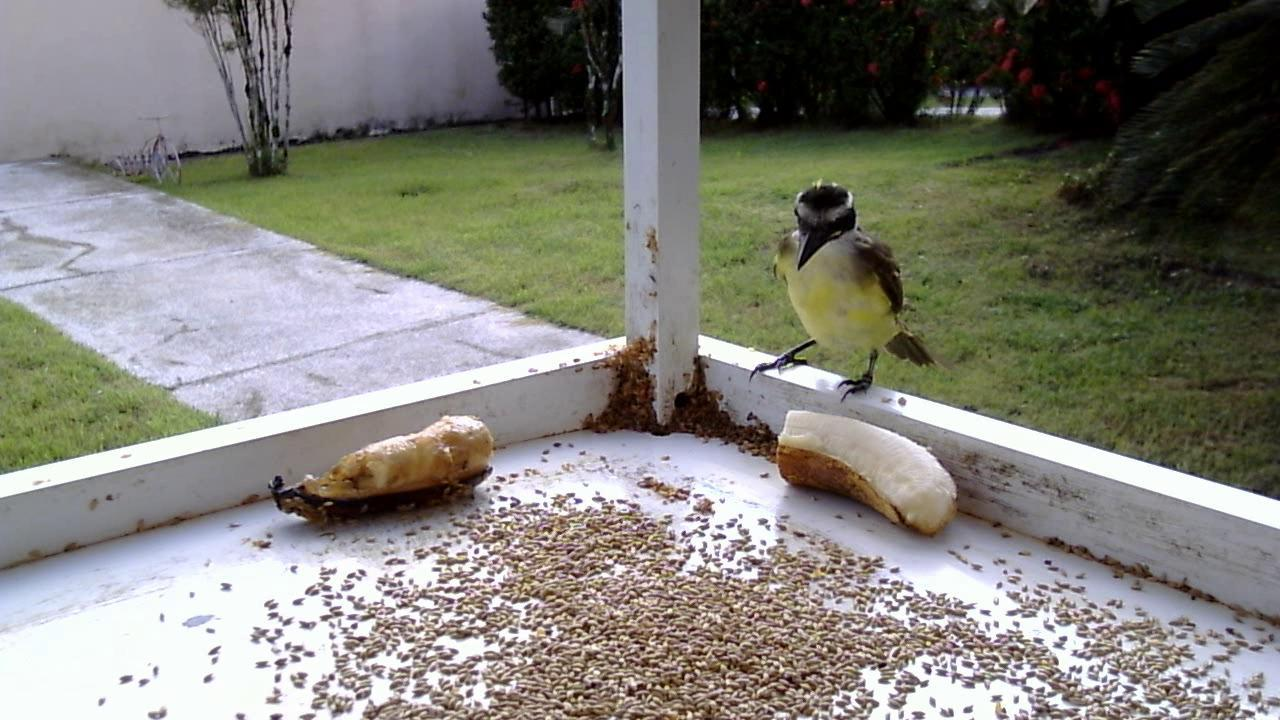bem_te_vi: (750, 181, 941, 408)
